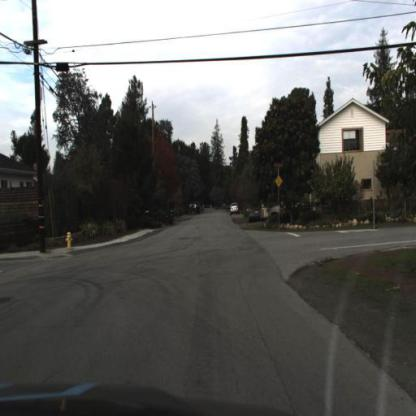car: (261, 196, 289, 224), (246, 198, 262, 224), (246, 201, 262, 224), (228, 202, 240, 219), (230, 201, 241, 216)
